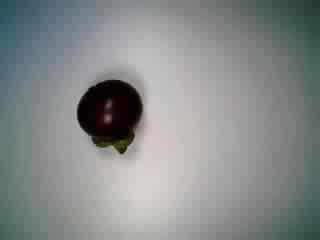mangosteen: (64, 78, 146, 155)
